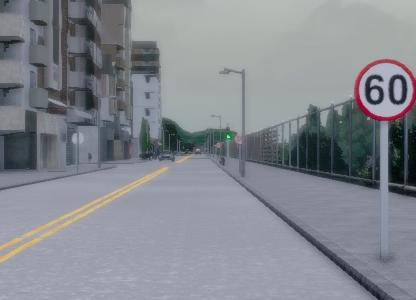Speed_60: (355, 59, 416, 123)
